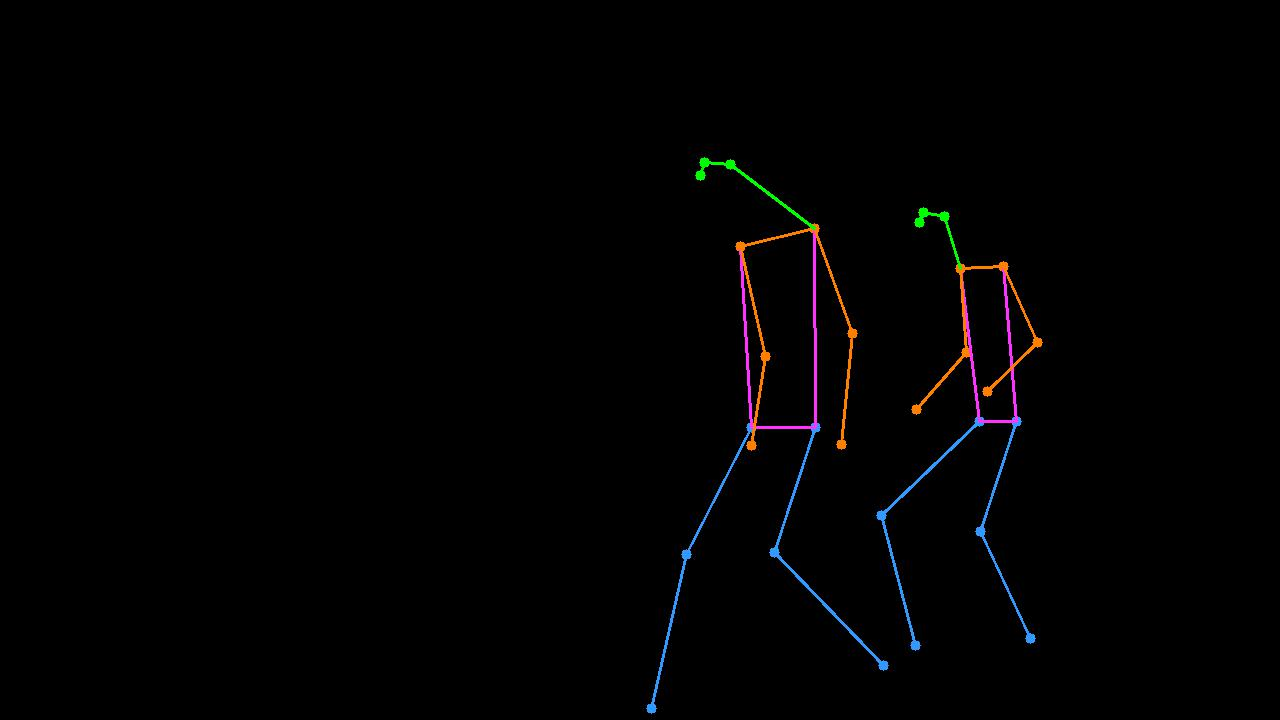normal: (635, 115, 900, 720), (861, 175, 1063, 678)
